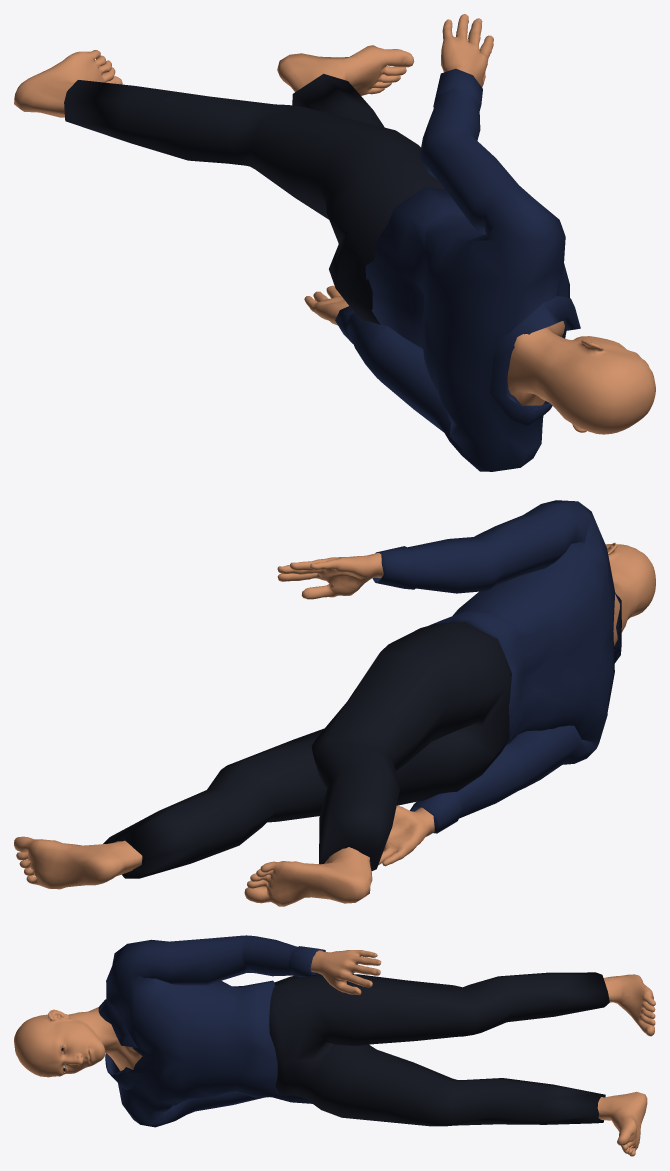
File: walk.obj
The picture shows the model from 3 angles, top to bottom: view 1: azimuth 30°, elevation 25°; view 2: azimuth 150°, elevation 25°; view 3: azimuth 270°, elevation 25°; orthographic projection. The views are drawn at different scales.
Bounding box in the file's own units: 0.803 × 0.5959 × 1.67.
